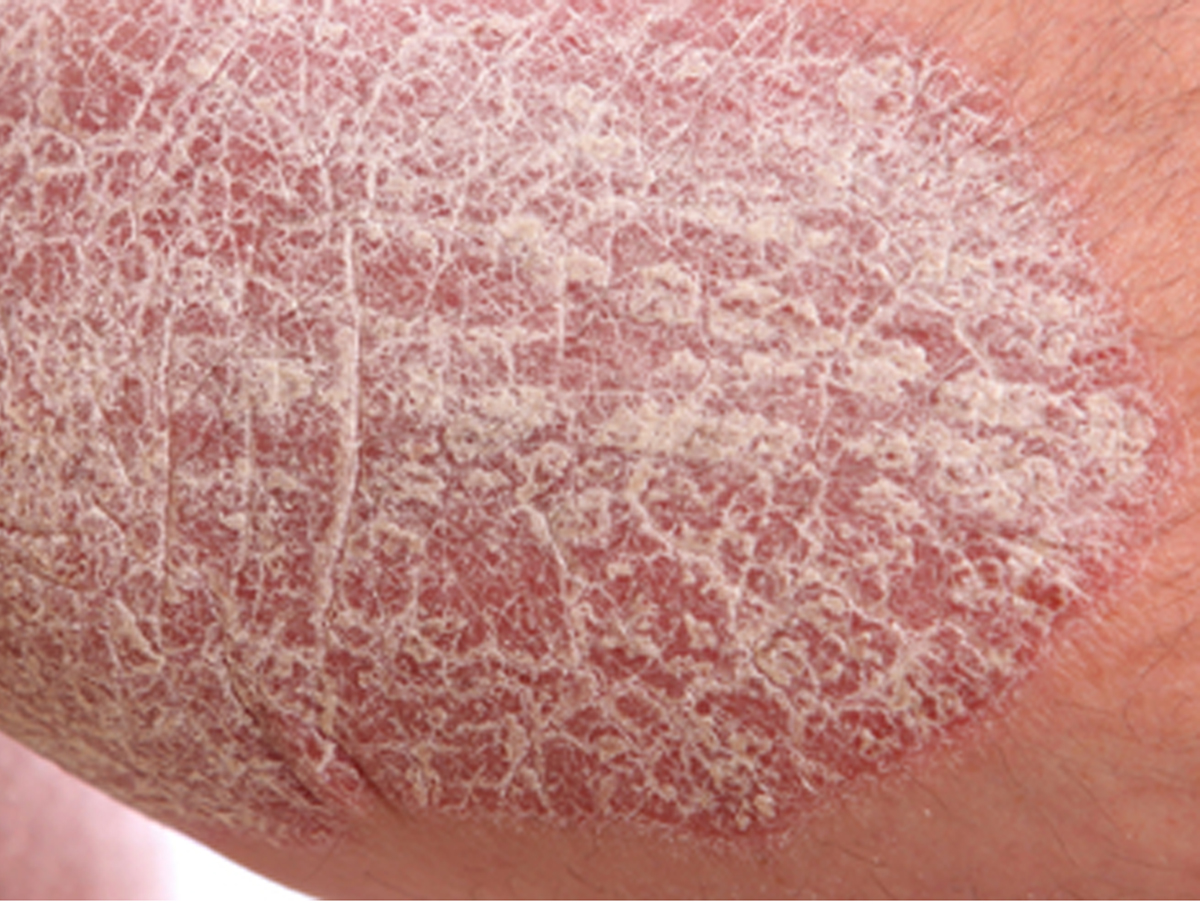Psoriasis: (39, 46, 1093, 817)
